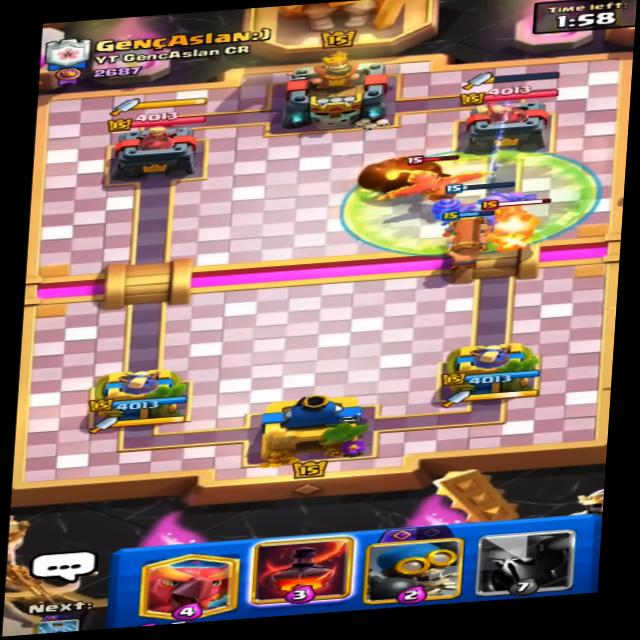Megaknight: (464, 194, 573, 259)
Pheonix: (373, 149, 505, 210)
